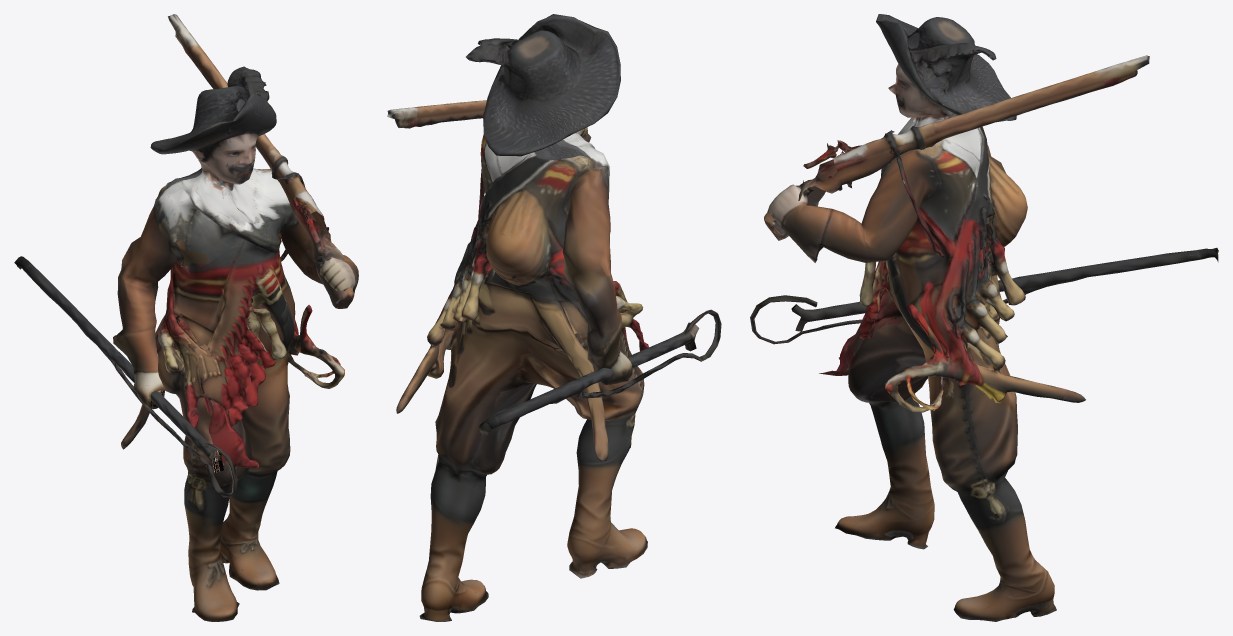
File: MUSKETEER_GER_Ret.glb
The picture shows the model from 3 angles, left to right: view 1: azimuth 30°, elevation 25°; view 2: azimuth 150°, elevation 25°; view 3: azimuth 270°, elevation 25°; orthographic projection. The views are drawn at different scales.
Parts seen in each view (by area): view 1: Mesh0.005; view 2: Mesh0.005; view 3: Mesh0.005.
Part boxes in pixels (box(x1,y1,x2,y2)): Mesh0.005: box(14, 14, 358, 621); Mesh0.005: box(387, 14, 721, 621); Mesh0.005: box(750, 14, 1218, 621).
Bounding box in the file's own units: 0.7649 × 2.01 × 1.51.
Materials: 1 (1 with a texture image).
